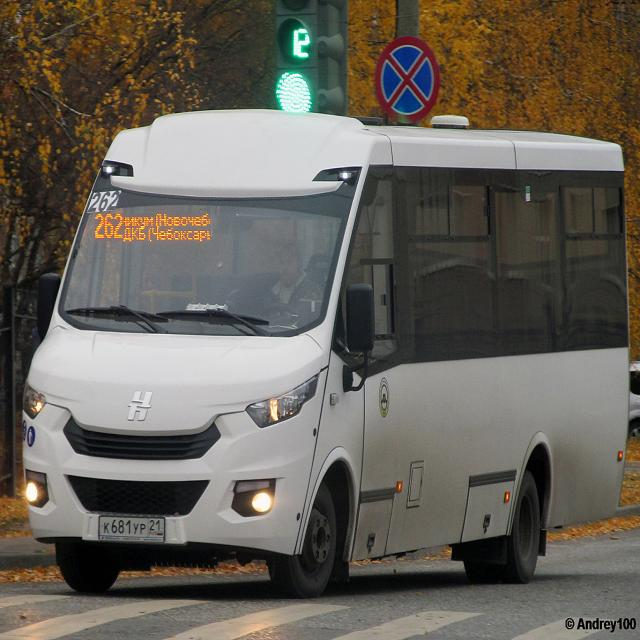number-of-bus: (87, 192, 123, 213), (96, 214, 124, 241)
